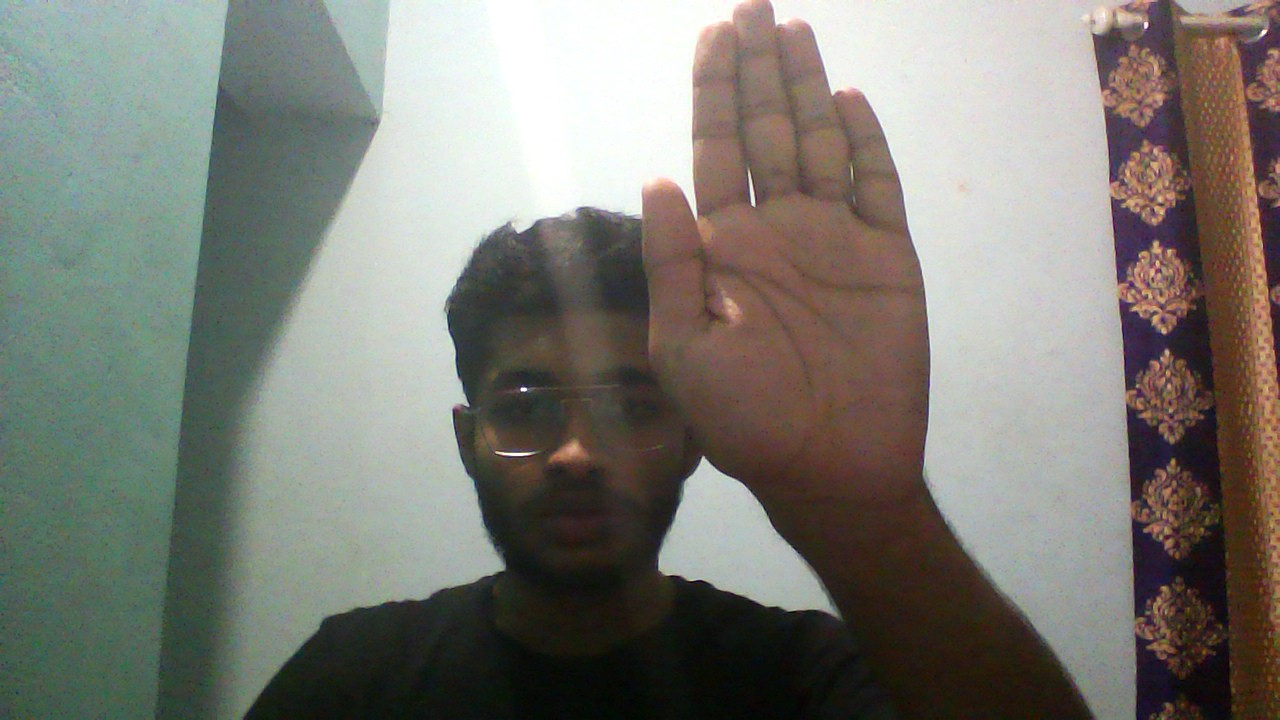Hello: (596, 11, 987, 534)
